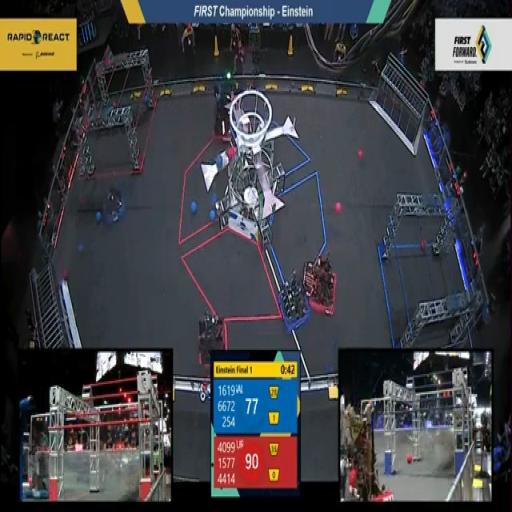robot: (203, 67, 250, 146), (302, 246, 340, 323), (88, 168, 130, 232), (196, 304, 231, 367), (274, 272, 310, 331)
